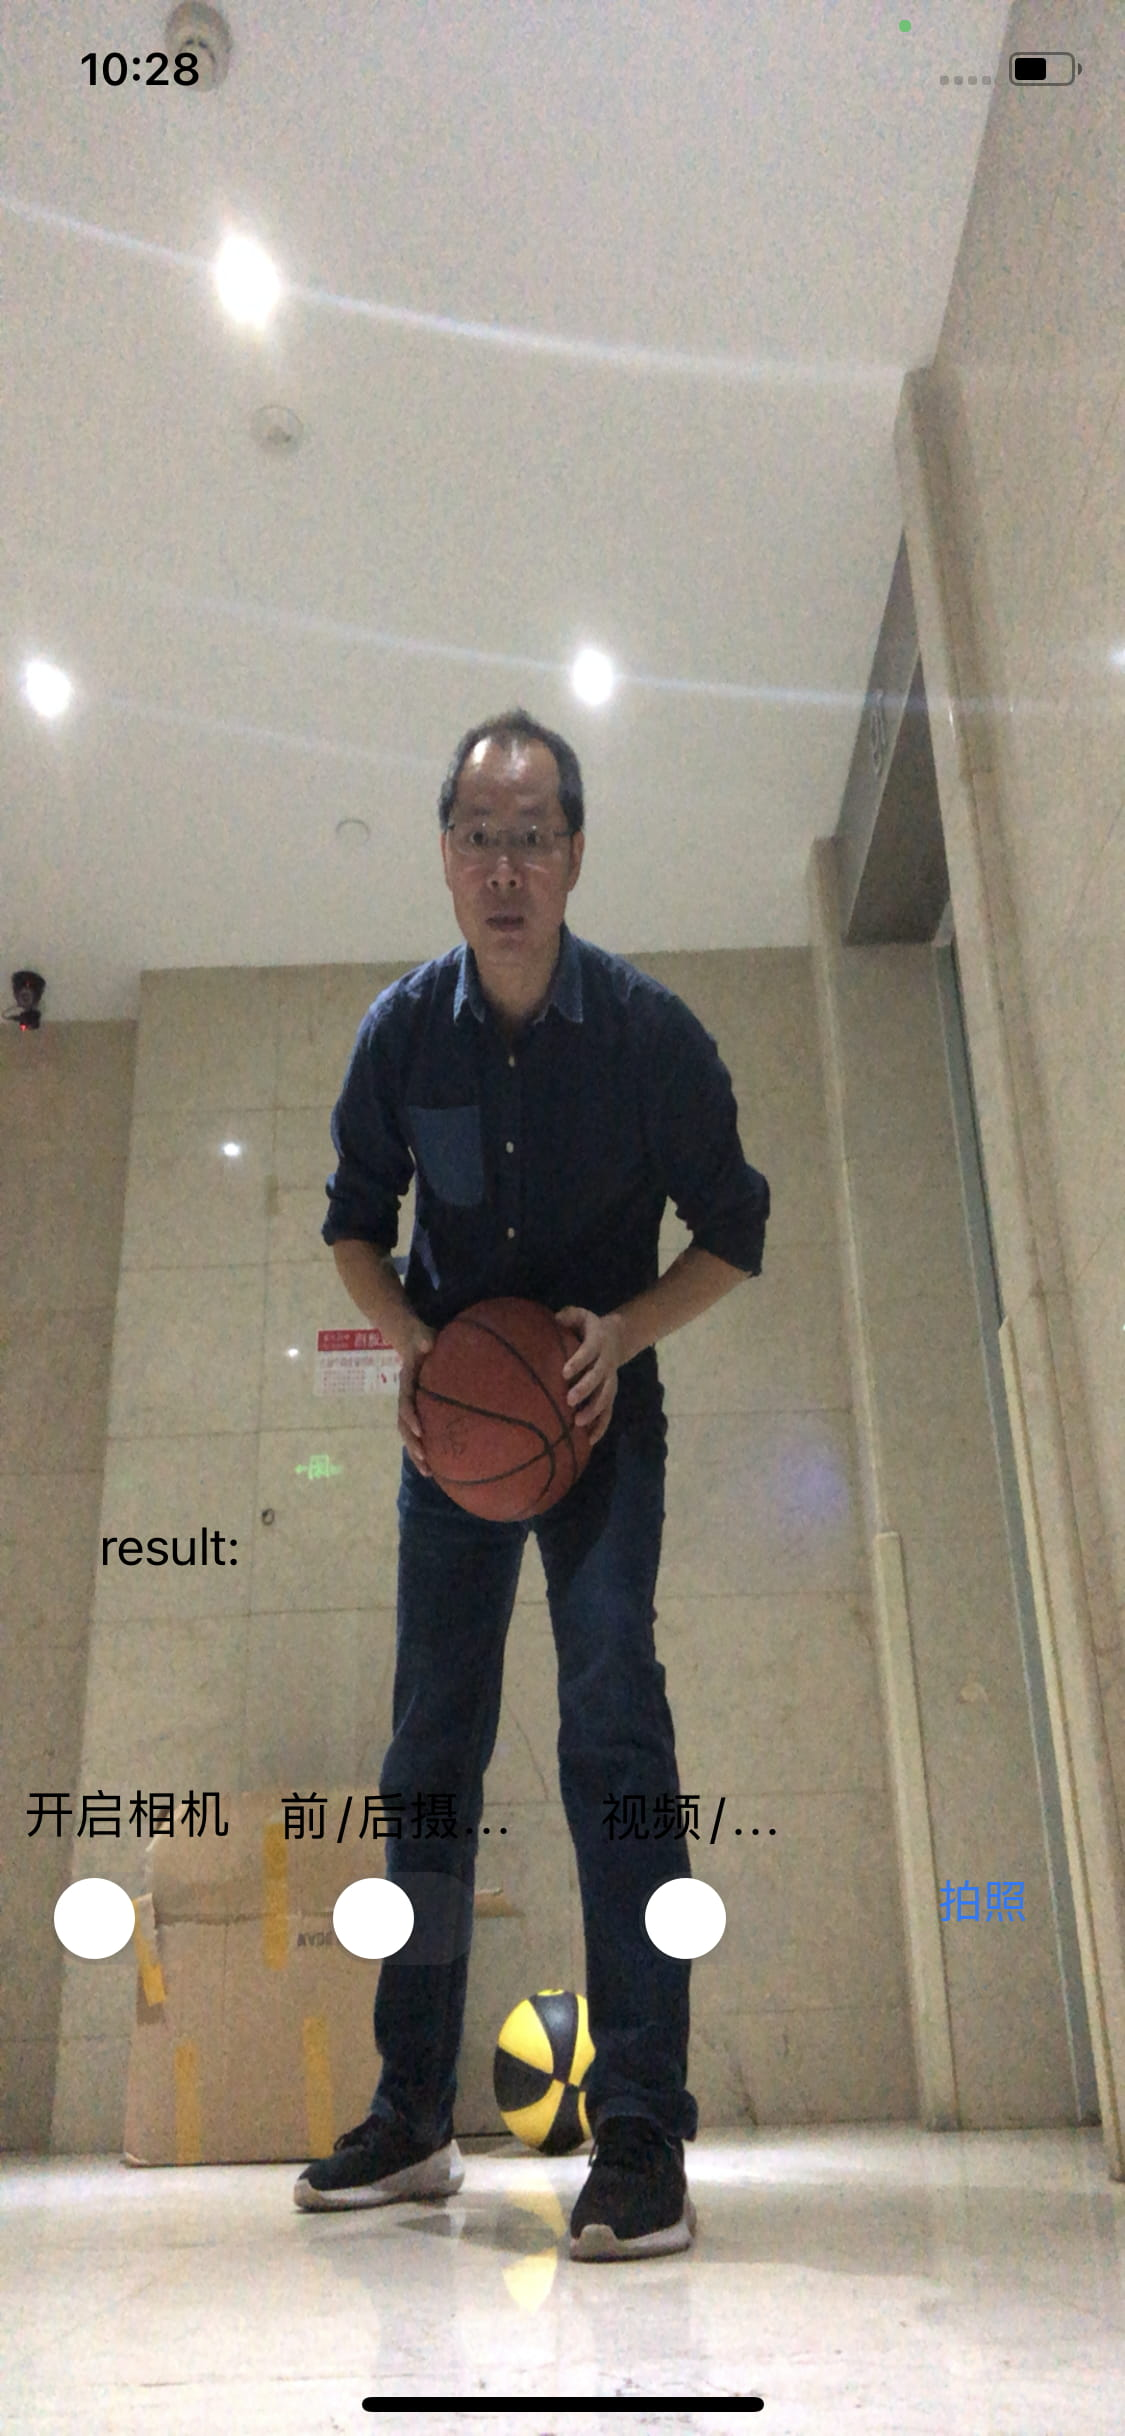ball: (406, 1302, 606, 1522)
